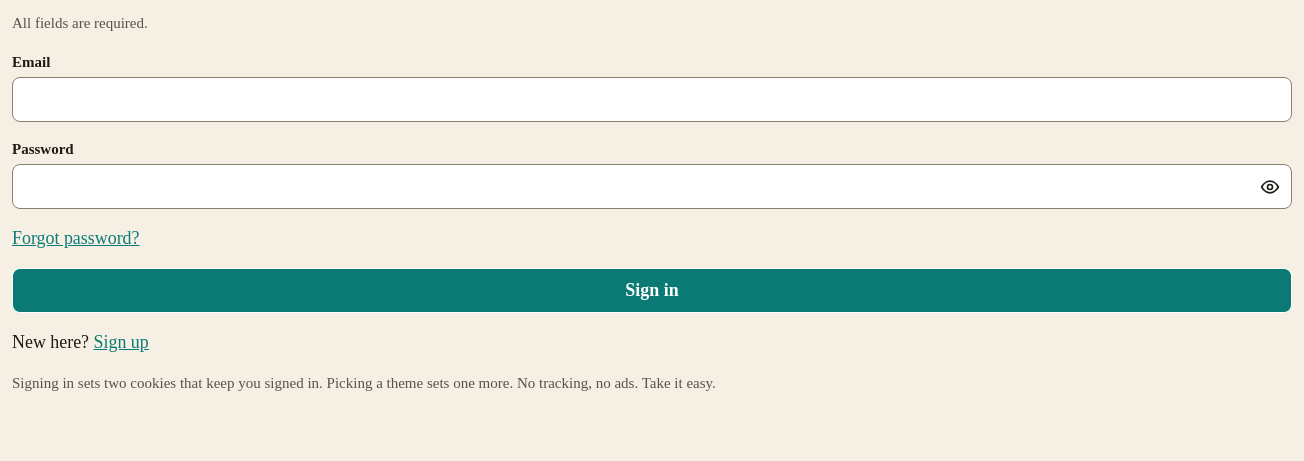
SignInForm › links field errors with aria-describedby and sets aria-invalid
Type "e2e-dude@example.com" into the field labelled "Email" at (652, 99), box [12,77,1292,122]
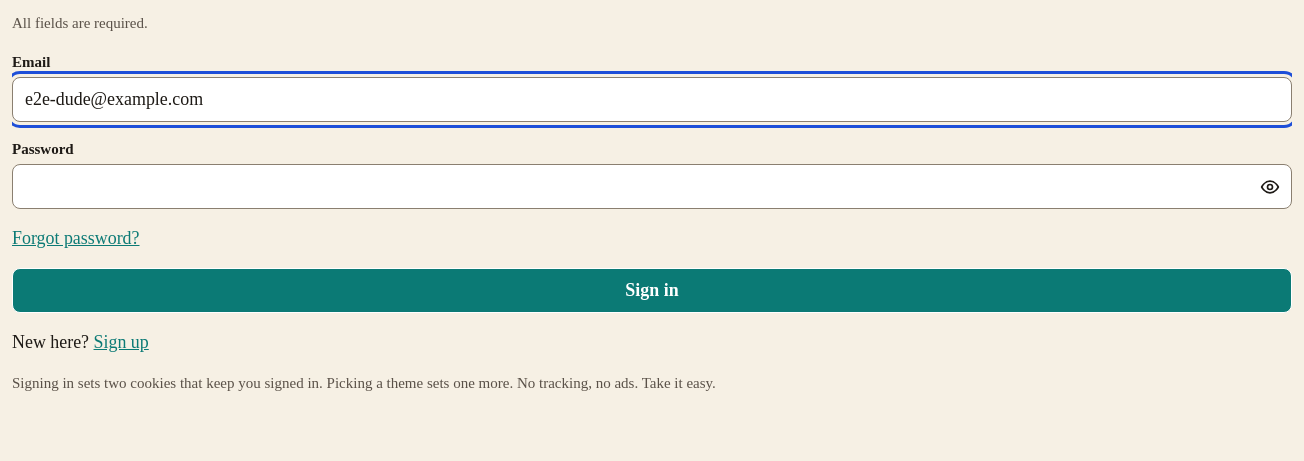
Type "not-a-real-password" into the password field labelled "Password" at (652, 187), box [12,164,1292,209]
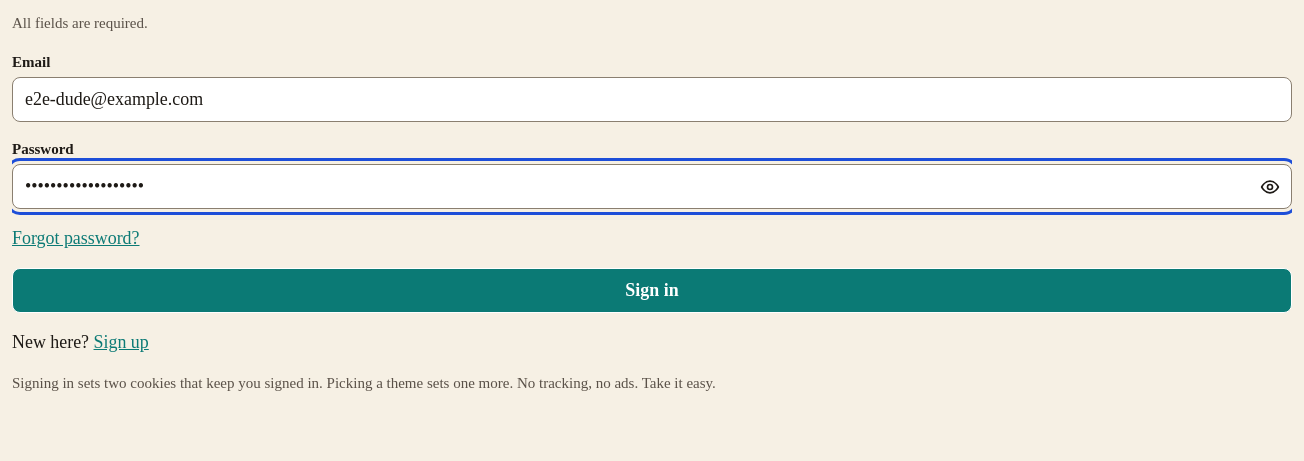
Click the button "Sign in" at (652, 291), box [12,268,1292,313]
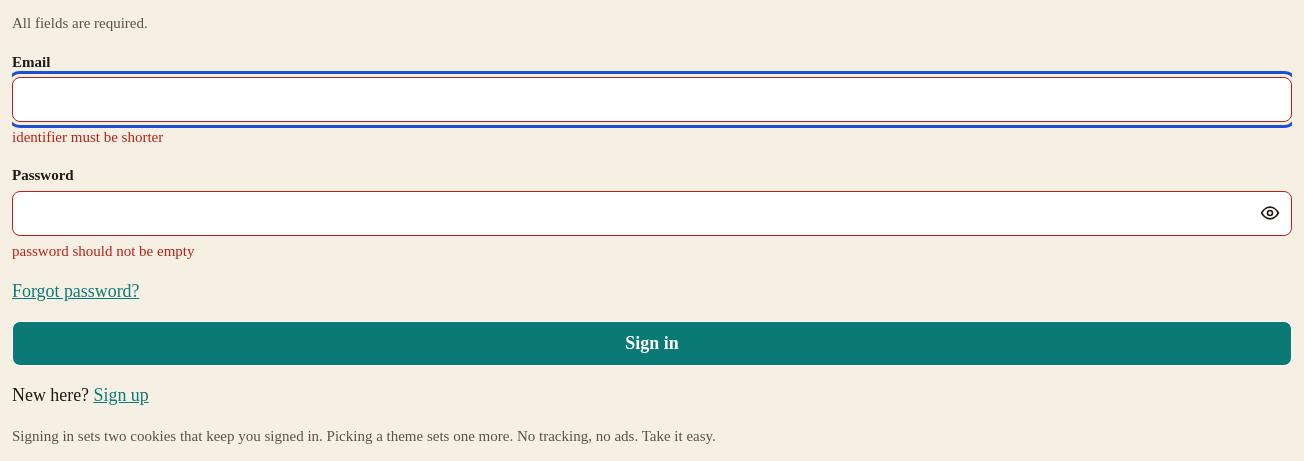
Result: the text "identifier must be shorter" is shown at [12,129,163,145]
Result: the text "password should not be empty" is shown at [12,243,194,259]
